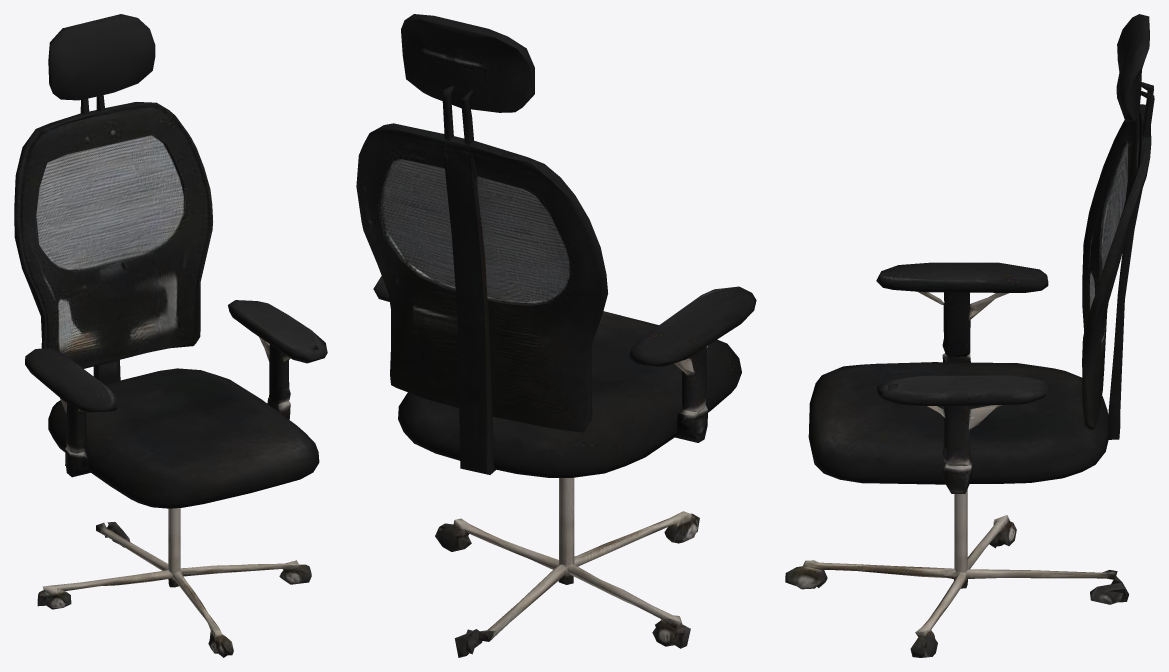
The model's file is chair.glb.
The picture shows the model from 3 angles, left to right: view 1: azimuth 30°, elevation 25°; view 2: azimuth 150°, elevation 25°; view 3: azimuth 270°, elevation 25°; orthographic projection. The views are drawn at different scales.
Visible parts, largest first — view 1: model; view 2: model; view 3: model.
Boxes of the visible parts, x1,y1,x2,y2 form: model: (14,14,327,657); model: (356,14,756,657); model: (785,14,1154,657).
Bounding box in the file's own units: 0.8868 × 1.73 × 1.02.
Materials: 1 (1 with a texture image).
